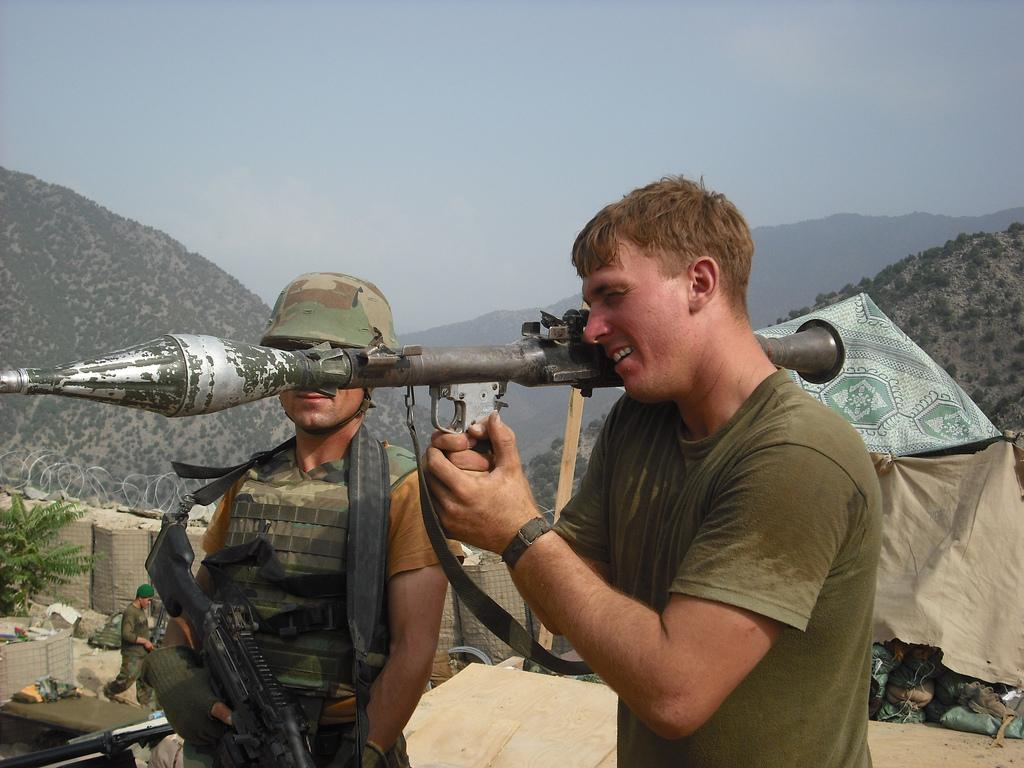Rifle: (0, 314, 846, 458)
